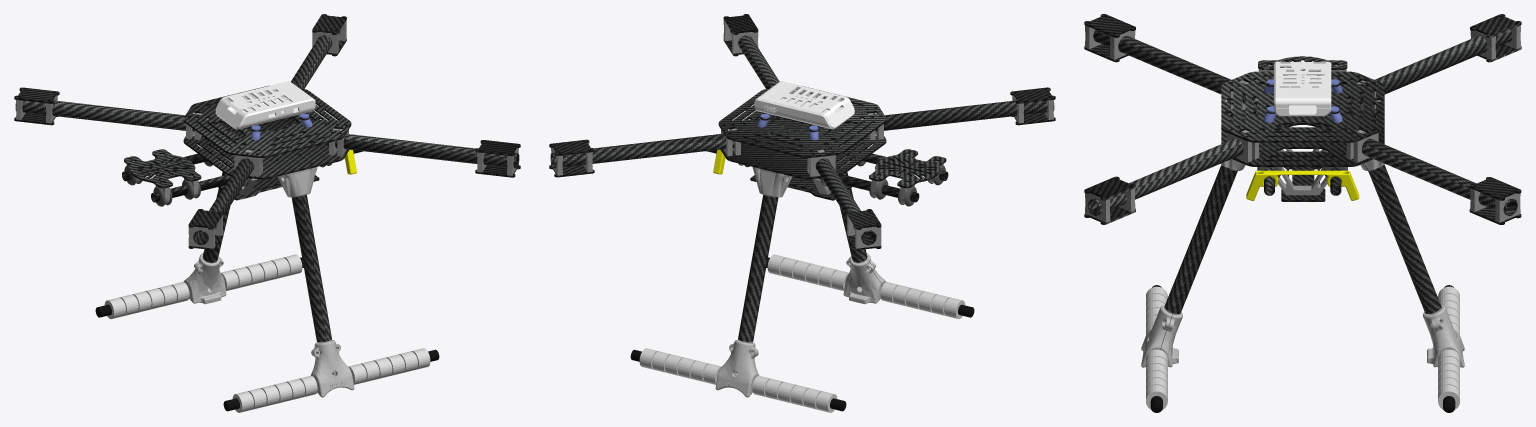
The picture shows the model from 3 angles, left to right: view 1: azimuth 30°, elevation 25°; view 2: azimuth 150°, elevation 25°; view 3: azimuth 270°, elevation 25°; orthographic projection. The views are drawn at different scales.
Parts seen in each view (by area): view 1: CarbonFiber, LandingFoam, LandingPlastic, FMUK66, Metal, RailsRubber, LandingRubber; view 2: CarbonFiber, LandingFoam, LandingPlastic, FMUK66, Metal, RailsRubber, LandingRubber; view 3: CarbonFiber, Metal, LandingFoam, LandingPlastic, FMUK66, RailsAntennaHolder, FMURubber, LandingRubber.
Part boxes in pixels (left/top/right/bottom): CarbonFiber: left=14, top=14, right=520, bottom=342; LandingFoam: left=104, top=254, right=430, bottom=412; LandingPlastic: left=183, top=167, right=354, bottom=397; FMUK66: left=215, top=81, right=315, bottom=129; Metal: left=16, top=20, right=518, bottom=248; RailsRubber: left=124, top=133, right=332, bottom=206; LandingRubber: left=95, top=257, right=439, bottom=411; CarbonFiber: left=549, top=14, right=1055, bottom=342; LandingFoam: left=639, top=254, right=965, bottom=412; LandingPlastic: left=715, top=167, right=886, bottom=397; FMUK66: left=754, top=81, right=854, bottom=129; Metal: left=551, top=20, right=1053, bottom=248; RailsRubber: left=738, top=133, right=945, bottom=206; LandingRubber: left=630, top=257, right=974, bottom=411; CarbonFiber: left=1084, top=14, right=1521, bottom=313; Metal: left=1085, top=25, right=1520, bottom=222; LandingFoam: left=1146, top=286, right=1459, bottom=409; LandingPlastic: left=1141, top=159, right=1464, bottom=367; FMUK66: left=1274, top=61, right=1331, bottom=116; RailsAntennaHolder: left=1246, top=170, right=1359, bottom=200; FMURubber: left=1263, top=79, right=1342, bottom=122; LandingRubber: left=1150, top=285, right=1455, bottom=412.
Size of the model in its own units: 0.3957 by 0.279 by 0.396.
9 materials, 1 textured.
